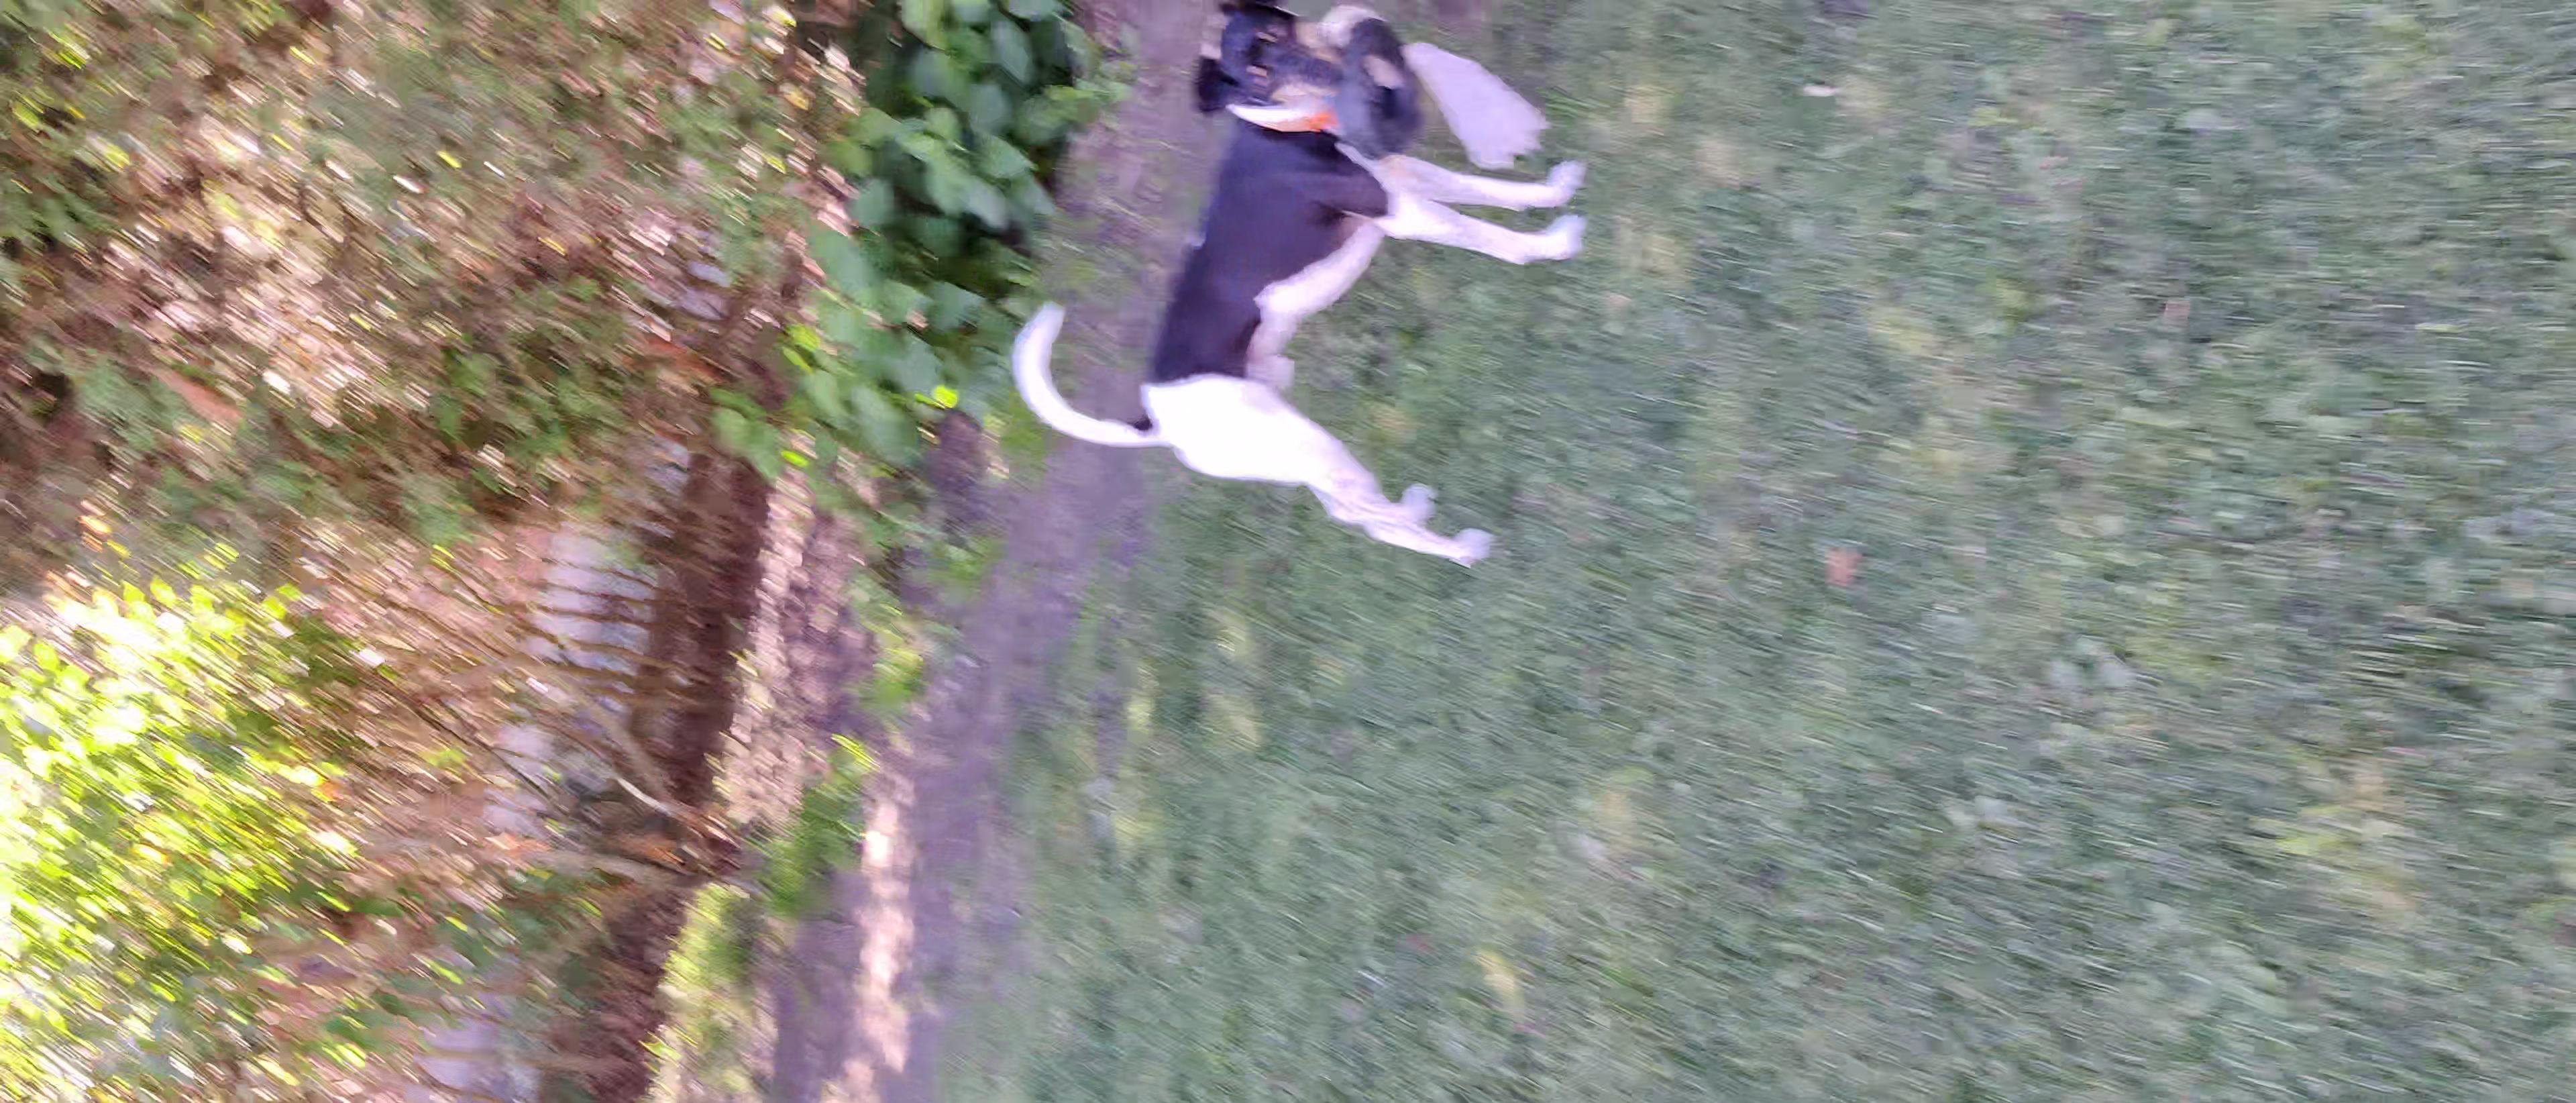Dog: (1005, 0, 1610, 574)
